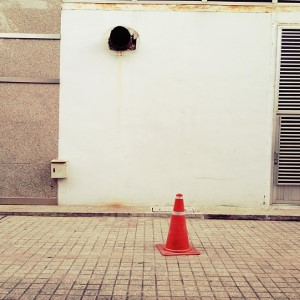traffic cone: (155, 193, 201, 256)
